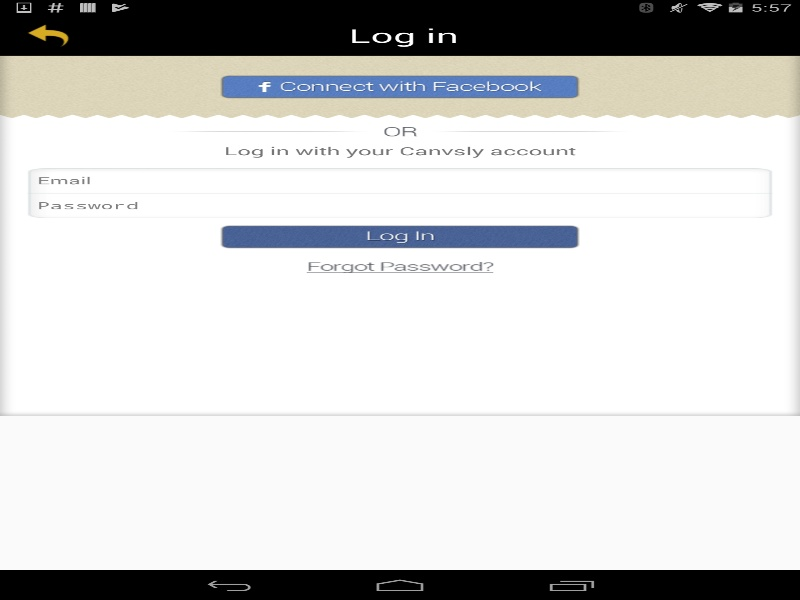Button: (220, 75, 580, 98), (220, 225, 580, 248), (10, 18, 85, 53), (306, 261, 493, 273)
Input: (37, 168, 762, 193), (37, 193, 762, 218)
